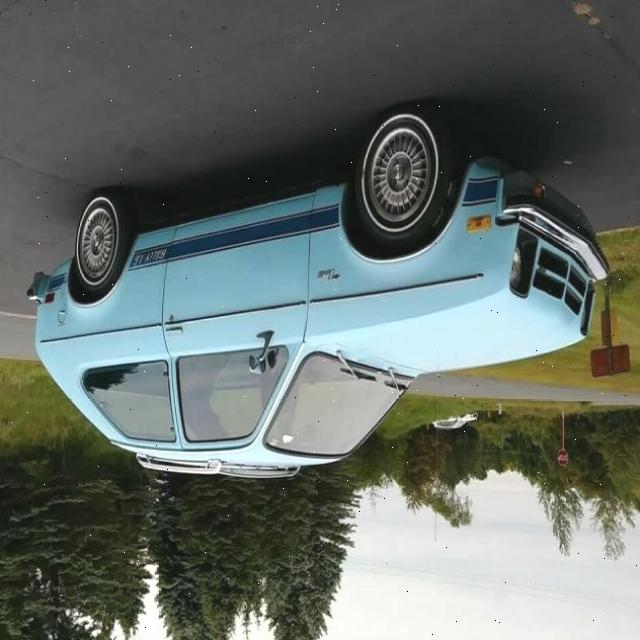car: (26, 105, 611, 478)
